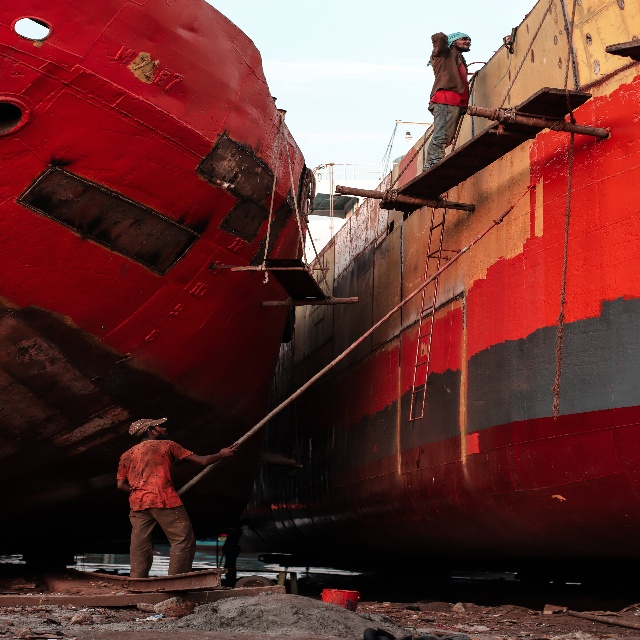Sin_guantes: (220, 441, 239, 456)
